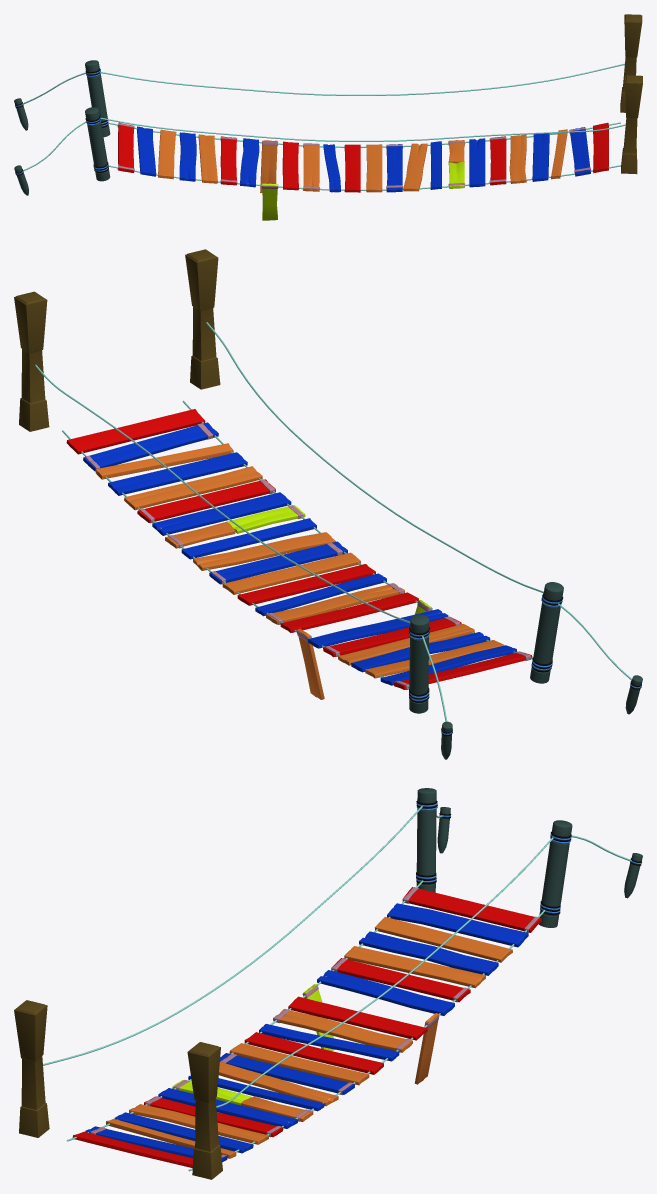
The model's file is pont susp high2.fbx.
The picture shows the model from 3 angles, top to bottom: view 1: azimuth 30°, elevation 25°; view 2: azimuth 150°, elevation 25°; view 3: azimuth 270°, elevation 25°; orthographic projection. The views are drawn at different scales.
Visible parts, largest first — view 1: planches2_high, planches4_high, planches1_high, lianne_high, potocar_high, potopiquet_high, planches5_high, metalPlanches_high, rondcable1_high; view 2: planches2_high, planches4_high, planches1_high, potocar_high, potopiquet_high, lianne_high, metalPlanches_high, planches5_high; view 3: planches2_high, planches4_high, planches1_high, potocar_high, potopiquet_high, lianne_high, metalPlanches_high, planches5_high, rondcable1_high.
Part boxes in pixels (bbox=[...]): planches2_high: bbox=[137, 126, 590, 192]; planches4_high: bbox=[158, 129, 567, 192]; planches1_high: bbox=[118, 122, 608, 192]; lianne_high: bbox=[22, 63, 625, 190]; potocar_high: bbox=[620, 14, 642, 174]; potopiquet_high: bbox=[14, 60, 110, 195]; planches5_high: bbox=[262, 161, 464, 220]; metalPlanches_high: bbox=[117, 123, 590, 191]; rondcable1_high: bbox=[15, 68, 108, 175]; planches2_high: bbox=[83, 422, 517, 685]; planches4_high: bbox=[95, 443, 504, 699]; planches1_high: bbox=[66, 409, 532, 689]; potocar_high: bbox=[14, 249, 220, 431]; potopiquet_high: bbox=[409, 582, 642, 759]; lianne_high: bbox=[35, 322, 632, 721]; metalPlanches_high: bbox=[85, 423, 530, 689]; planches5_high: bbox=[227, 505, 431, 660]; planches2_high: bbox=[85, 903, 528, 1161]; planches4_high: bbox=[106, 917, 512, 1158]; planches1_high: bbox=[72, 887, 541, 1167]; potocar_high: bbox=[14, 1000, 222, 1179]; potopiquet_high: bbox=[416, 788, 642, 927]; lianne_high: bbox=[43, 806, 631, 1171]; metalPlanches_high: bbox=[90, 887, 539, 1157]; planches5_high: bbox=[172, 984, 334, 1105]; rondcable1_high: bbox=[416, 800, 641, 915].
Bounding box in the file's own units: 886 × 255 × 642.
